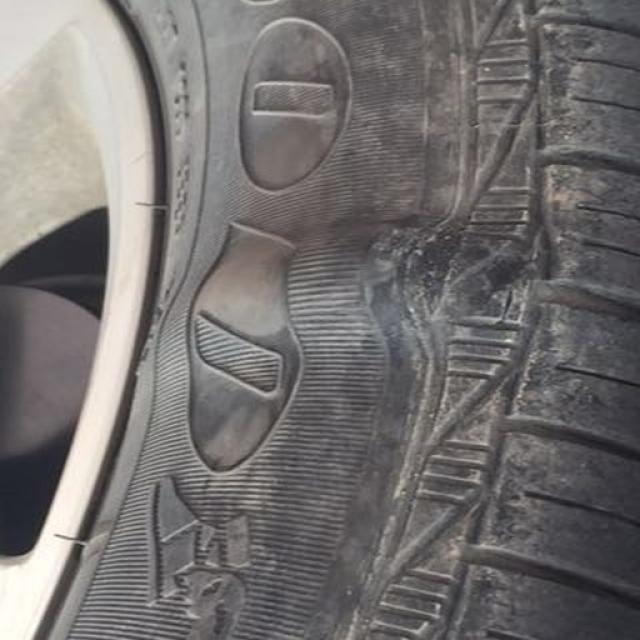Bulge: (155, 212, 528, 402)
